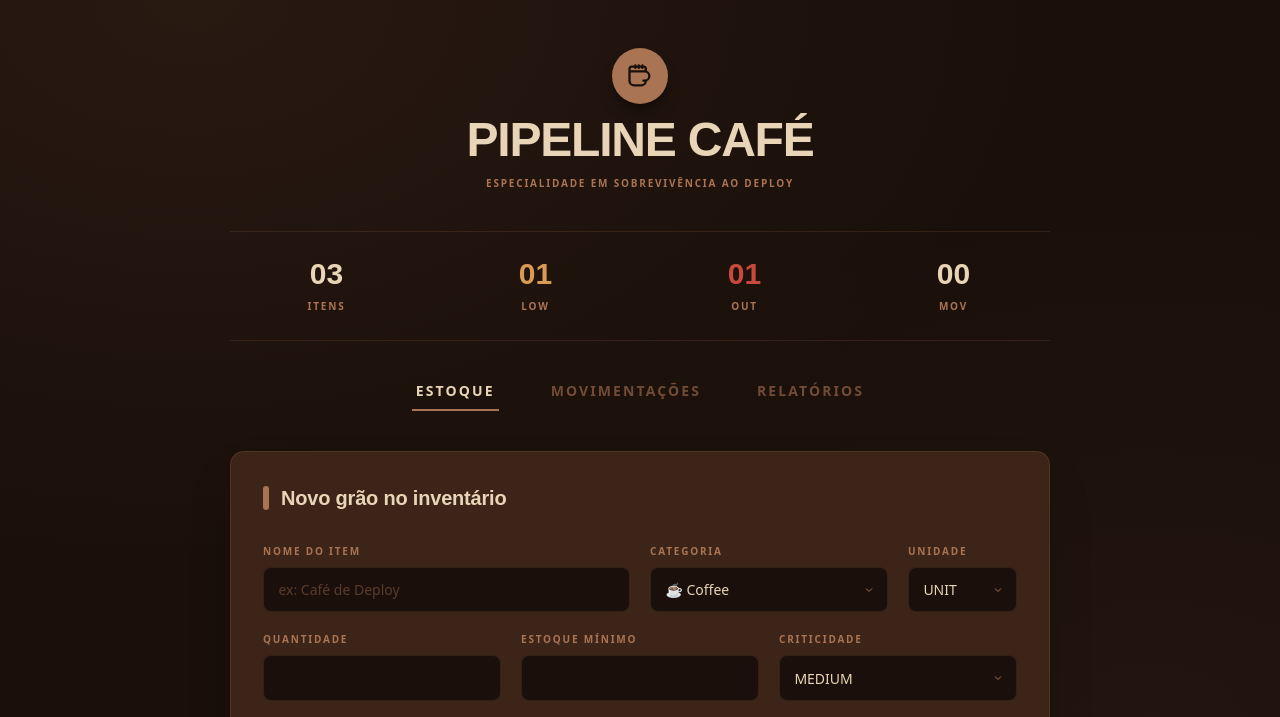
Test: PipelineCafePage › movimentações › mostra loading de movimentações
This screenshot has width=1280, height=717.
Click the button "Movimentações" at (626, 396), box [547,381,705,411]
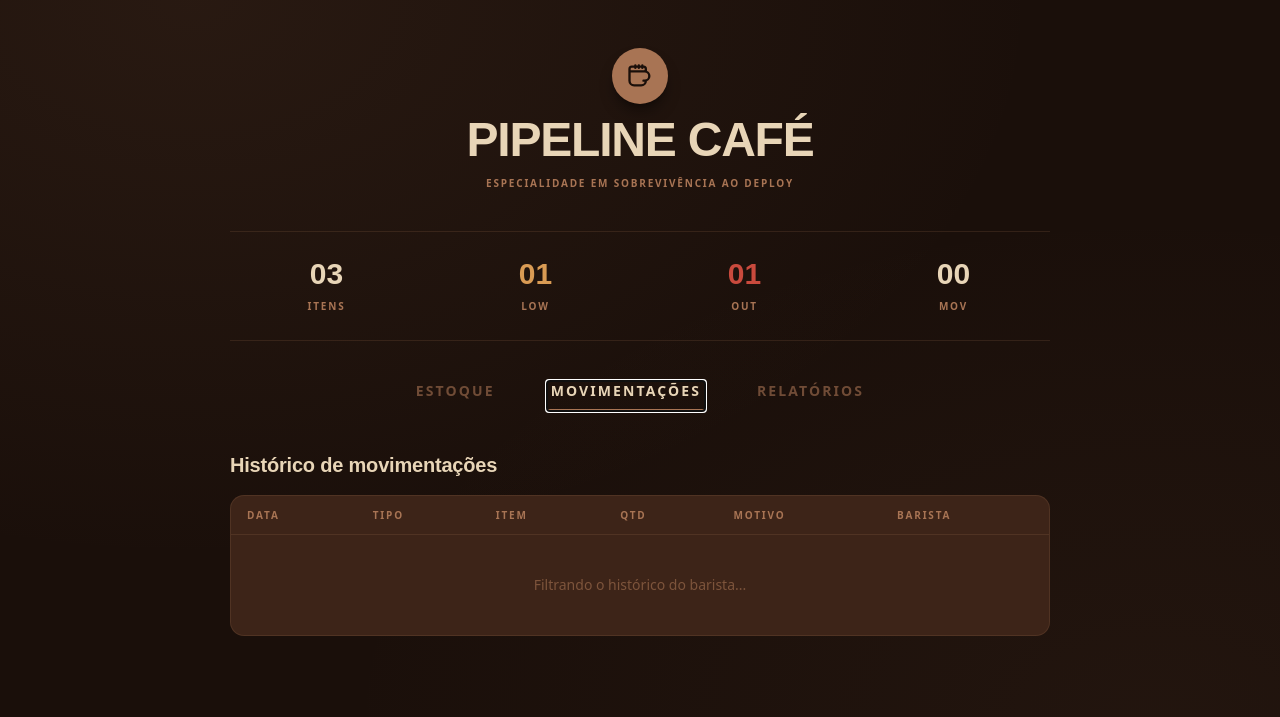
Check: the text "Filtrando o histórico do barista..." is shown, box [231,535,1049,635]
